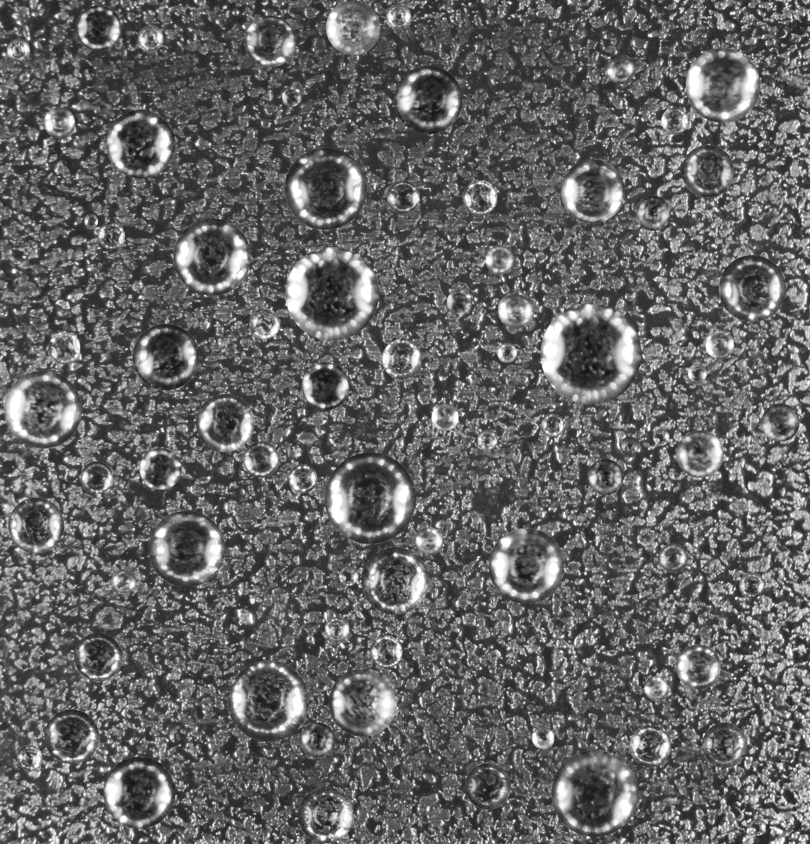Bubble: (540, 303, 641, 404), (285, 247, 378, 340), (324, 452, 415, 543), (551, 750, 638, 836), (284, 147, 366, 229), (227, 660, 308, 741), (4, 370, 81, 448), (173, 218, 250, 295), (148, 510, 224, 587), (488, 528, 564, 603), (685, 48, 760, 122), (103, 756, 175, 828), (106, 109, 174, 178), (394, 65, 462, 133), (329, 668, 397, 736), (361, 547, 429, 614), (132, 324, 198, 390), (719, 255, 785, 321), (561, 159, 624, 223), (196, 394, 254, 452), (297, 787, 353, 843), (8, 497, 63, 553), (44, 709, 98, 763), (326, 0, 380, 54), (681, 145, 734, 197), (244, 15, 296, 67), (74, 633, 122, 681), (301, 362, 349, 410), (676, 430, 723, 477), (465, 763, 510, 809), (75, 5, 121, 50), (702, 722, 747, 767), (676, 644, 720, 689), (629, 725, 671, 767), (139, 448, 181, 489), (382, 339, 422, 379), (761, 403, 799, 441), (587, 459, 623, 495), (243, 441, 279, 477), (498, 292, 534, 328), (462, 180, 497, 215), (300, 722, 335, 757), (636, 195, 670, 230), (386, 180, 419, 213), (370, 635, 402, 668), (80, 461, 113, 493), (48, 332, 80, 364), (44, 107, 75, 138), (249, 308, 279, 339), (605, 54, 635, 83), (288, 464, 317, 493), (705, 330, 734, 359), (659, 543, 687, 572), (485, 245, 513, 273), (415, 527, 443, 554), (661, 107, 688, 134), (431, 403, 458, 430), (98, 222, 124, 249), (446, 289, 472, 315), (137, 25, 163, 51), (385, 4, 411, 29), (739, 572, 764, 598), (16, 745, 42, 770), (111, 569, 136, 594), (324, 617, 349, 641), (644, 676, 668, 700), (540, 413, 564, 436), (531, 726, 554, 749), (7, 38, 29, 61), (477, 430, 497, 450), (282, 86, 301, 106), (497, 343, 517, 362), (339, 566, 358, 585), (688, 363, 706, 382), (620, 436, 638, 455), (749, 819, 766, 835), (653, 429, 669, 445), (786, 729, 800, 744), (83, 214, 97, 228), (315, 680, 327, 691)
